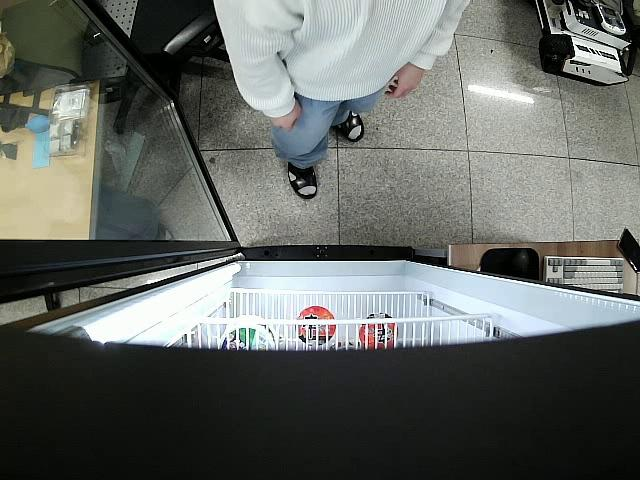00_hand: (384, 59, 425, 103)
